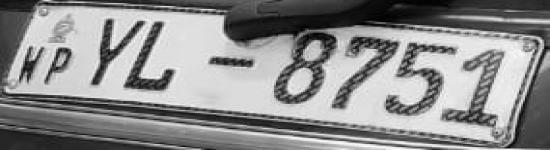-: (204, 52, 259, 74)
1: (434, 36, 520, 137)
5: (369, 34, 468, 123)
7: (317, 27, 406, 119)
8: (260, 27, 348, 113)
L: (116, 16, 203, 99)
P: (45, 44, 74, 84)
W: (16, 44, 48, 84)
Y: (80, 11, 153, 92)
